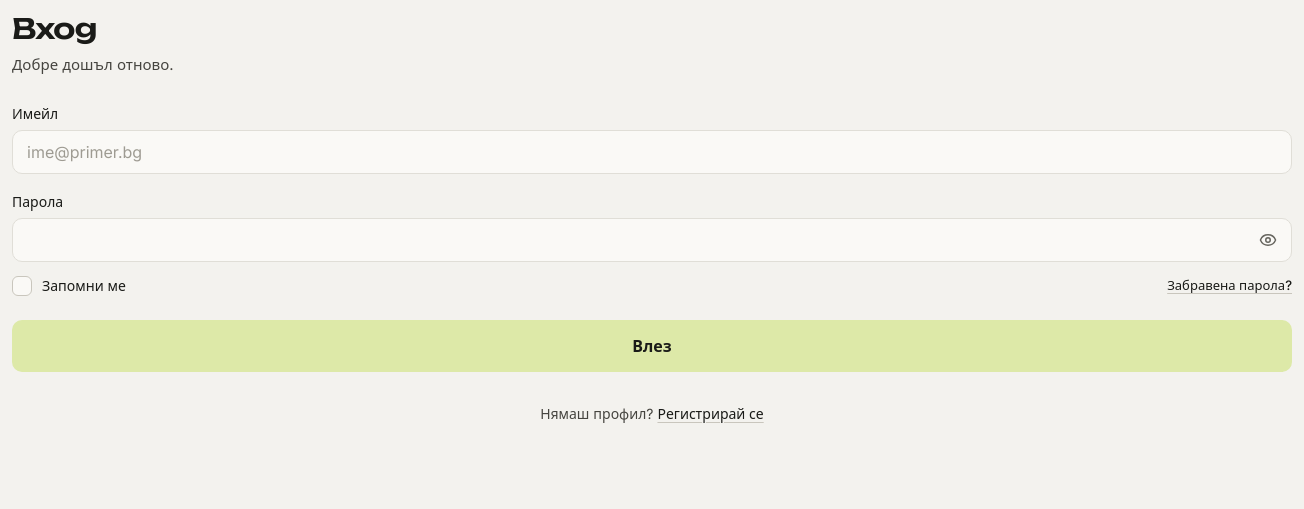
LoginPage › shows one generic banner for wrong credentials (401)
In the field labelled "Имейл": (652,152) 12,130 -> 1292,174, type "anna@body4u.bg"
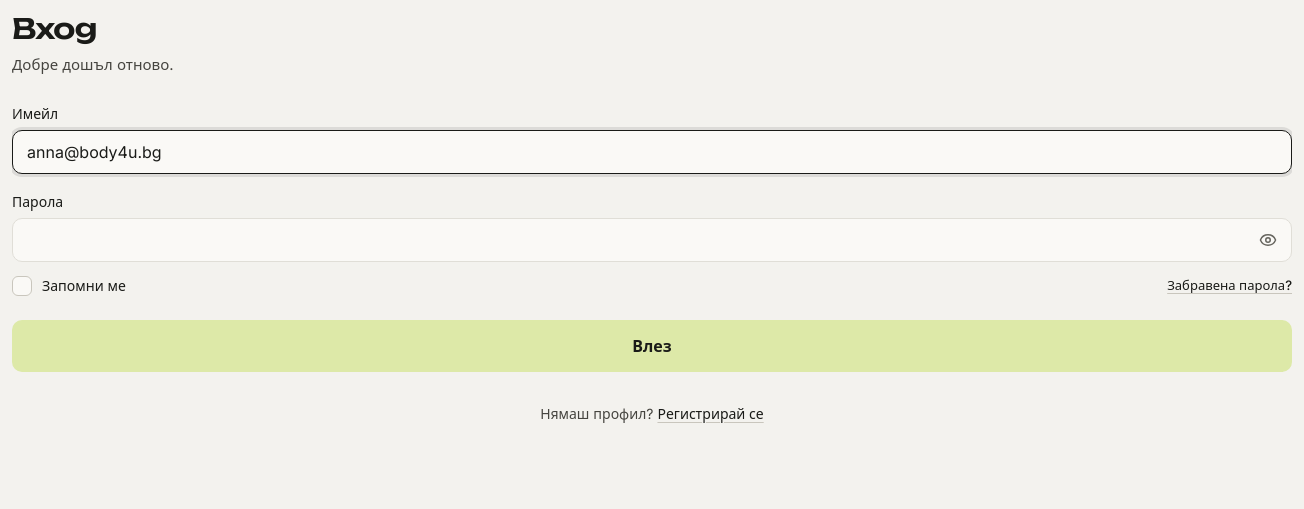
In the password field labelled "Парола": (652,240) 12,218 -> 1292,262, type "Parola1!"
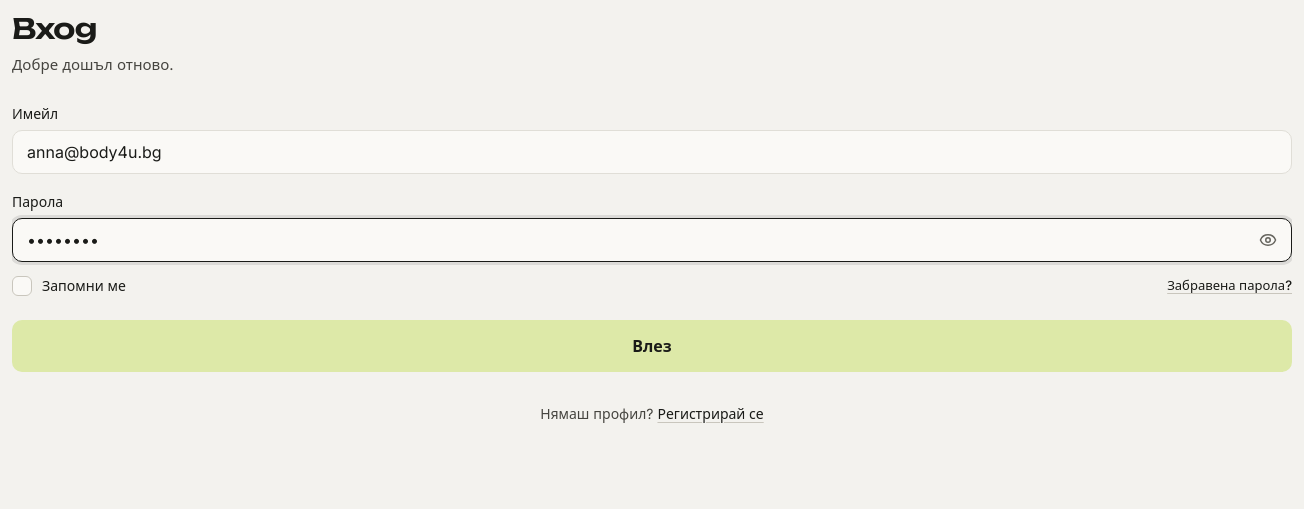
Click the button "Влез": (652,346) 12,320 -> 1292,372
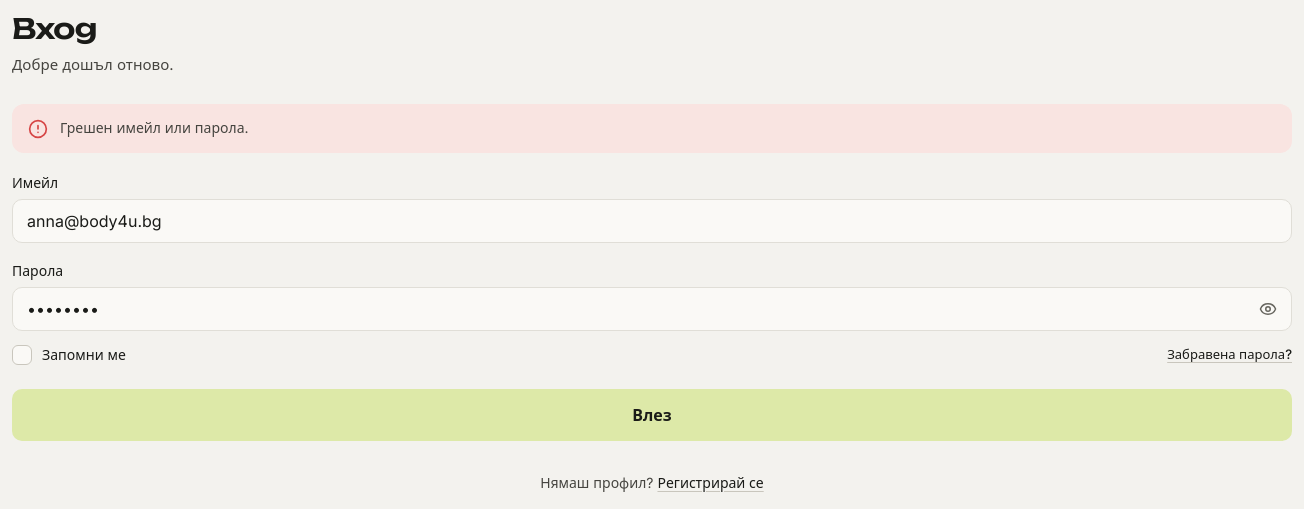
Expected: the text "Грешен имейл или парола." is shown, 60,119 -> 248,136
